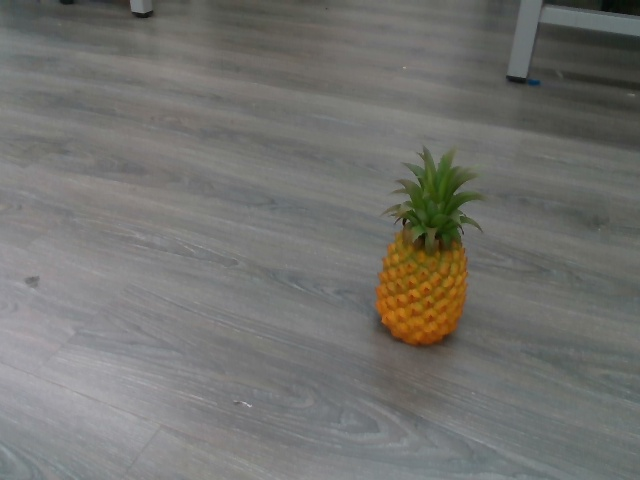pineapple: (373, 144, 490, 347)
